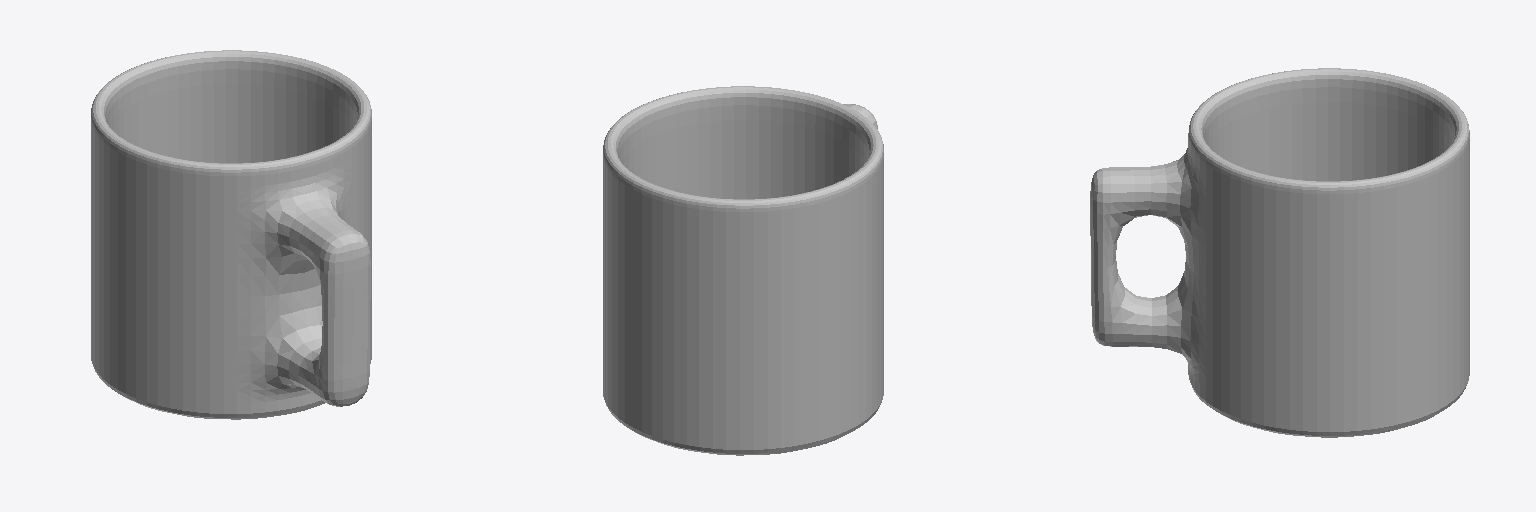
File: DangoCup.obj
The picture shows the model from 3 angles: view 1: azimuth 30°, elevation 25°; view 2: azimuth 150°, elevation 25°; view 3: azimuth 270°, elevation 25°; orthographic projection.
Parts seen in each view (by area): view 1: 柱体; view 2: 柱体; view 3: 柱体.
Boxes of the visible parts, <box> form: 柱体: <box>91,50,371,419</box>; 柱体: <box>603,86,883,455</box>; 柱体: <box>1090,68,1469,437</box>.
Size of the model in its own units: 1.95 by 2 by 2.63.